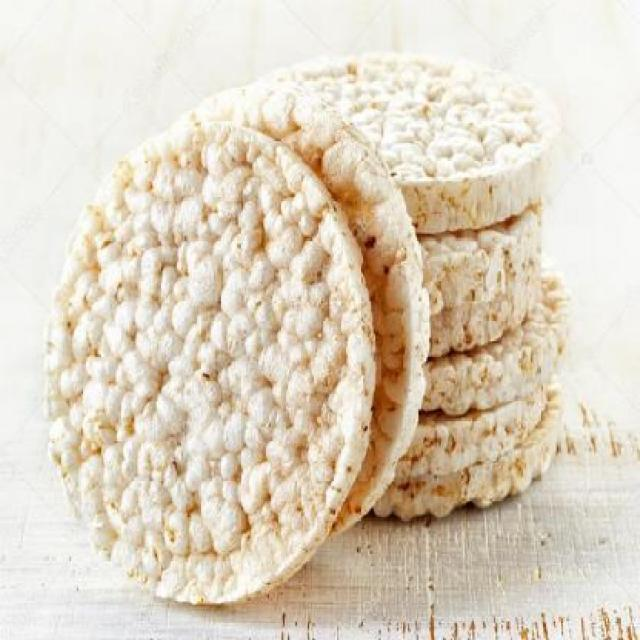Gallette di riso packaged: (35, 124, 371, 600)
